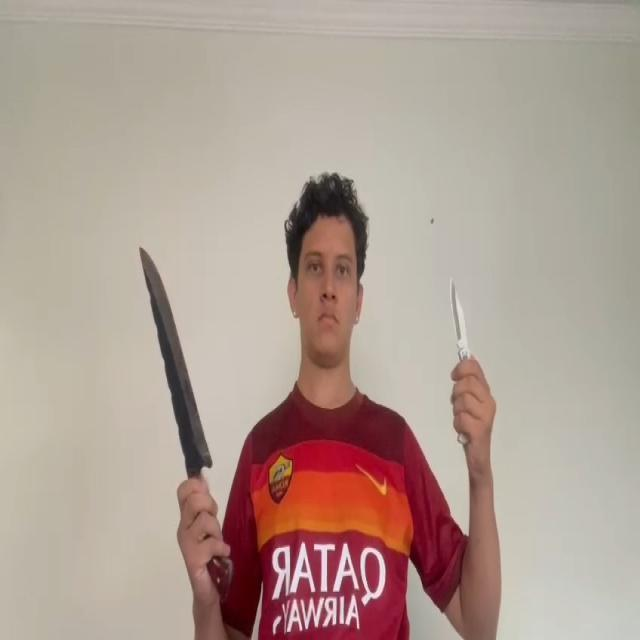knife: (139, 246, 213, 470), (449, 276, 467, 350)
